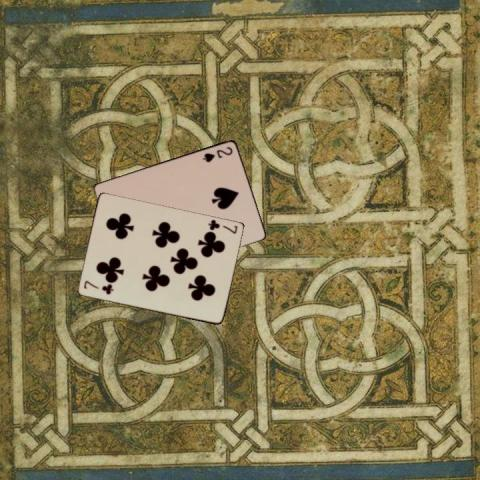2s: (200, 144, 234, 163)
7c: (80, 278, 114, 296), (205, 217, 238, 235)
